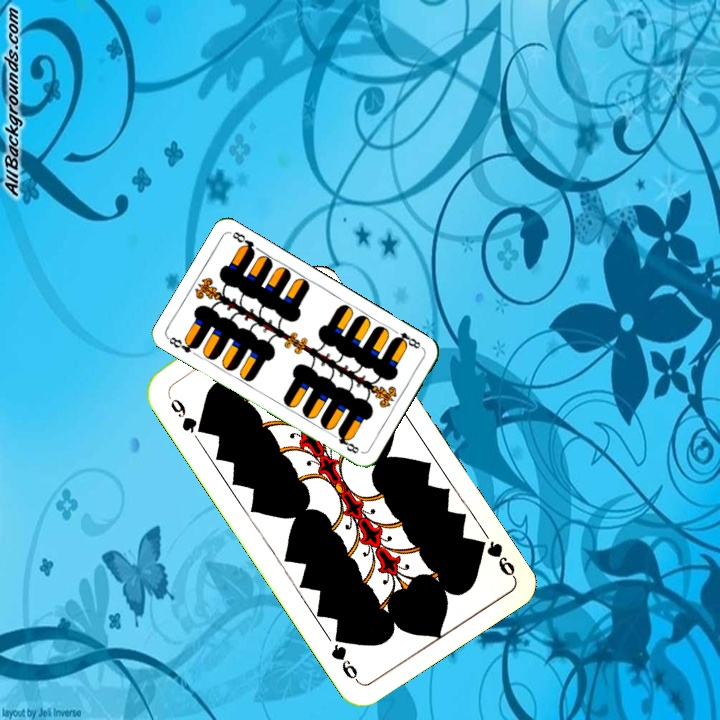E8: (389, 325, 425, 352), (164, 333, 201, 356)
G9: (470, 535, 518, 581), (166, 394, 208, 437)
